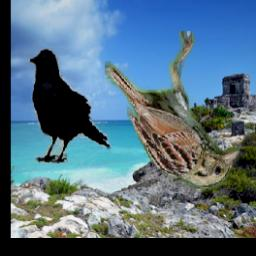Crow: (26, 48, 112, 164)
Sparrow: (106, 32, 240, 190)
